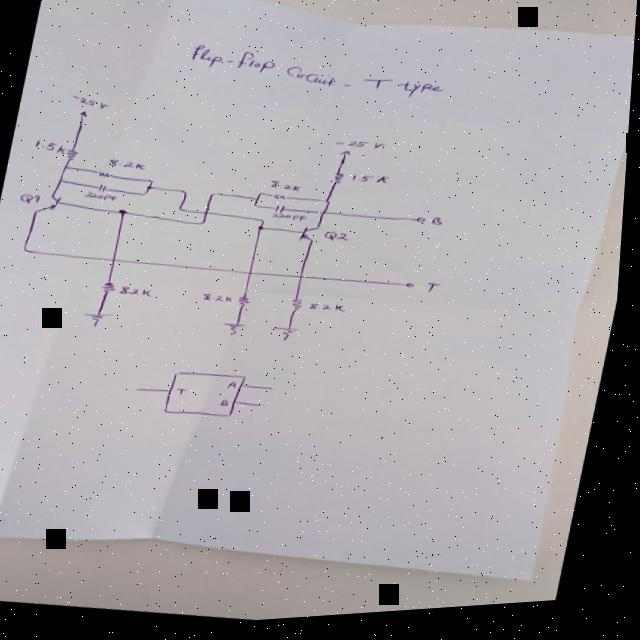capacitor: (274, 207, 291, 219), (97, 184, 111, 195)
crossover: (205, 213, 213, 219), (301, 278, 309, 284), (114, 259, 122, 265), (250, 274, 258, 279), (323, 215, 331, 220)
ground: (85, 311, 120, 332), (273, 328, 306, 348), (223, 323, 253, 342)
junction: (120, 211, 132, 217), (324, 203, 334, 209), (24, 247, 32, 254), (148, 187, 157, 193), (212, 195, 222, 200), (201, 223, 209, 229), (260, 229, 268, 235), (60, 179, 67, 185), (260, 194, 267, 200), (183, 192, 191, 197), (142, 194, 150, 199), (181, 209, 187, 214), (151, 181, 157, 186), (65, 166, 71, 171), (262, 222, 268, 227), (257, 200, 264, 204), (255, 207, 260, 212)
resistor: (104, 282, 121, 297), (65, 149, 82, 164), (293, 301, 308, 317), (240, 299, 256, 313), (272, 196, 293, 206), (334, 175, 348, 190), (97, 171, 117, 181)
source: (79, 110, 93, 121), (341, 154, 356, 163)
terminal: (417, 221, 431, 230), (409, 289, 419, 294), (273, 390, 281, 396), (139, 389, 146, 394), (265, 407, 272, 412)
text: (184, 33, 455, 121), (336, 140, 390, 158), (70, 93, 114, 114), (33, 137, 71, 158), (109, 158, 151, 175), (271, 181, 307, 199), (353, 176, 395, 191), (311, 305, 353, 320), (84, 190, 122, 206), (121, 286, 159, 302), (325, 233, 355, 249), (274, 215, 310, 228), (205, 294, 238, 308), (20, 192, 45, 207), (427, 287, 446, 301), (434, 222, 448, 233), (180, 390, 195, 399), (223, 402, 236, 411), (232, 384, 243, 393)
transistor: (36, 194, 65, 217), (301, 228, 324, 249)
